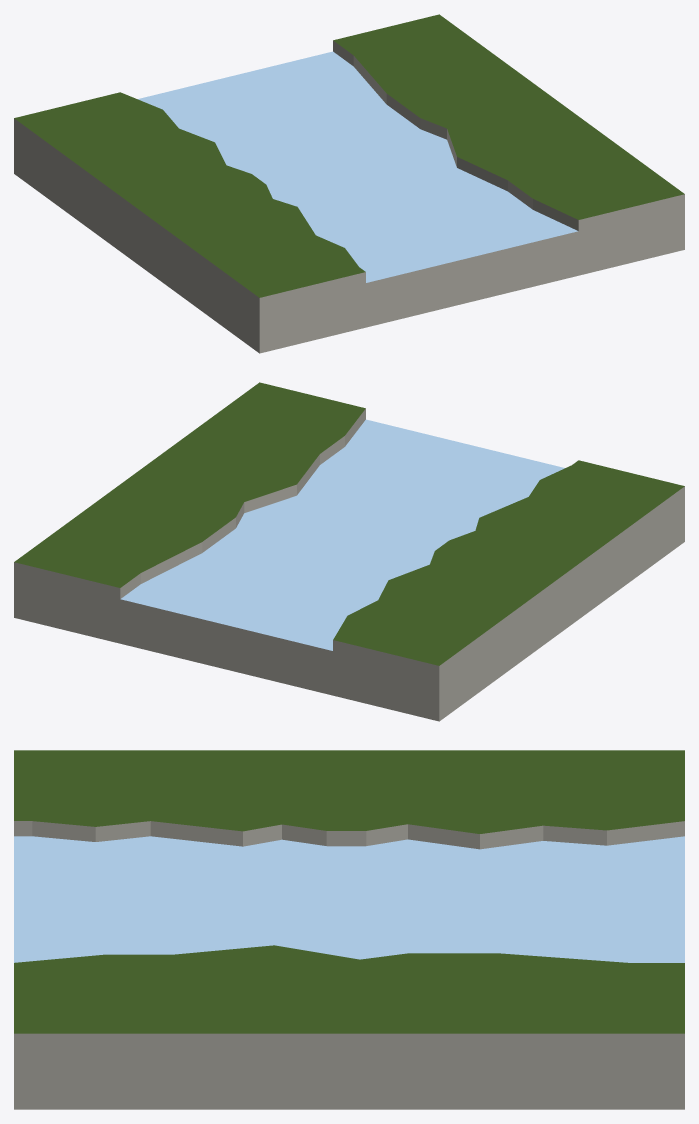
The model's file is Terrain_Tile_Grass_Rock_River_03.fbx.
3 views of the same model, one above another, from view 1: azimuth 30°, elevation 25°; view 2: azimuth 150°, elevation 25°; view 3: azimuth 270°, elevation 25° (orthographic). The views are drawn at different scales.
Parts seen in each view (by area): view 1: Model; view 2: Model; view 3: Model.
Boxes of the visible parts, <box> form: Model: <box>14,14,684,353</box>; Model: <box>14,382,684,721</box>; Model: <box>14,750,684,1109</box>.
Size of the model in its own units: 2000 by 250 by 2000.
